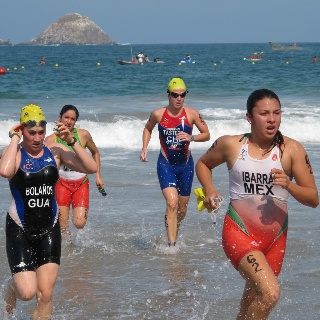without_mask: (251, 97, 282, 139)
